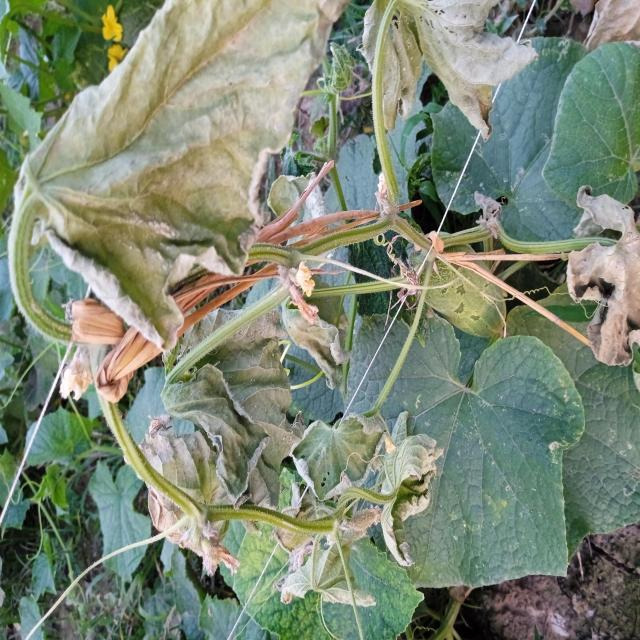cucumber_bacterial: (46, 8, 291, 342), (269, 420, 441, 608), (364, 2, 538, 176), (136, 405, 250, 593), (562, 181, 640, 370)
